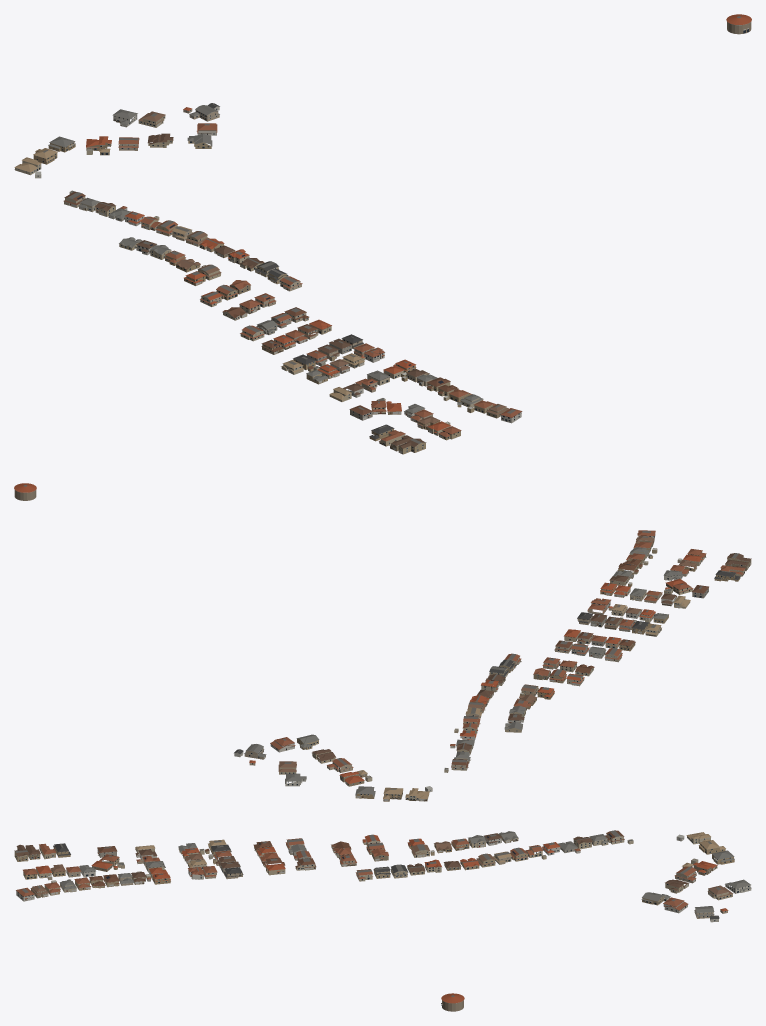
3 renders of one model, top to bottom at view 1: azimuth 30°, elevation 25°; view 2: azimuth 150°, elevation 25°; view 3: azimuth 270°, elevation 25°, orthographic. The views are drawn at different scales.
Parts seen in each view (by area): view 1: buildings_r1_c5_lod0; view 2: buildings_r1_c5_lod0; view 3: buildings_r1_c5_lod0.
Boxes of the visible parts, x1,y1,x2,y2 form: buildings_r1_c5_lod0: (14,14,751,454); buildings_r1_c5_lod0: (14,483,751,801); buildings_r1_c5_lod0: (14,830,751,1011).
Size of the model in its own units: 691 by 135 by 807.
